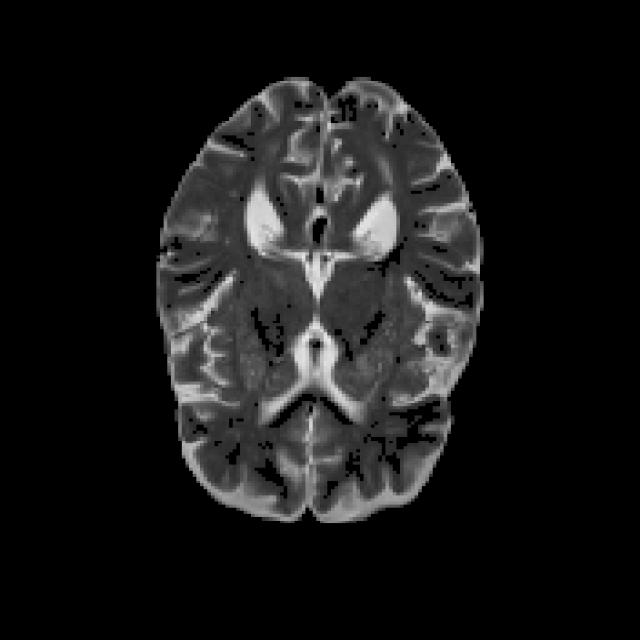parkinson: (152, 71, 484, 523)
